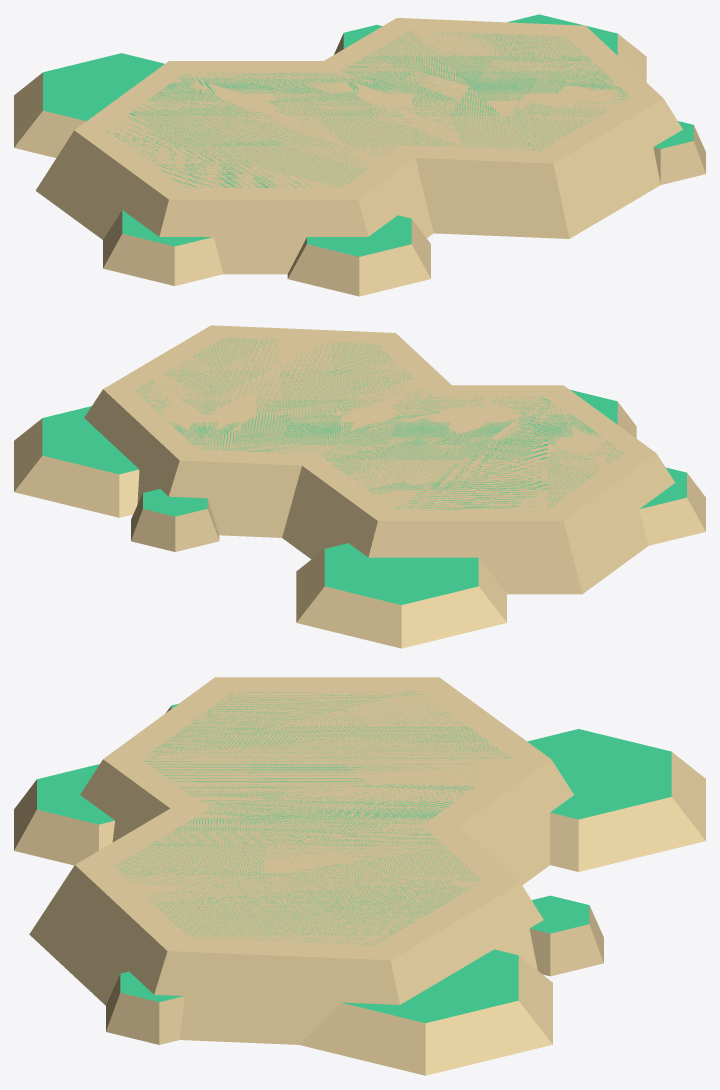
Rendered from rockFlatGrass.dae.
3 renders of one model, top to bottom at view 1: azimuth 30°, elevation 25°; view 2: azimuth 150°, elevation 25°; view 3: azimuth 270°, elevation 25°, orthographic. The views are drawn at different scales.
Visible parts, largest first — view 1: rockFlatGrass; view 2: rockFlatGrass; view 3: rockFlatGrass.
Part boxes in pixels (left/top/right/bottom): rockFlatGrass: left=14, top=14, right=705, bottom=296; rockFlatGrass: left=14, top=325, right=705, bottom=648; rockFlatGrass: left=14, top=677, right=705, bottom=1075.
Bounding box in the file's own units: 1.79 × 0.165 × 1.45.
